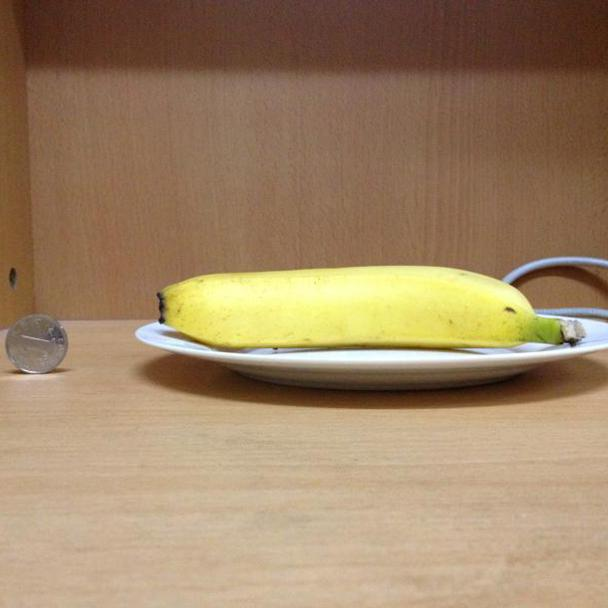banana: (156, 266, 582, 354)
